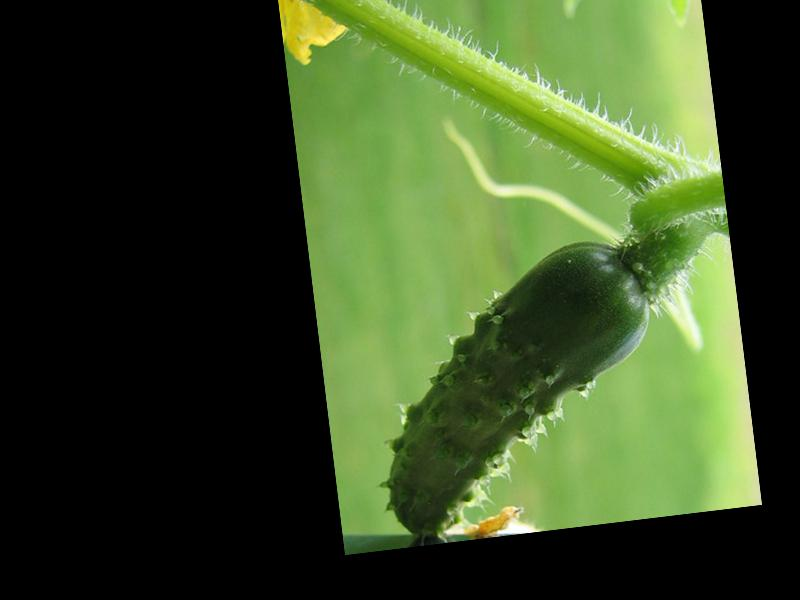Cucumber: (358, 231, 670, 540)
